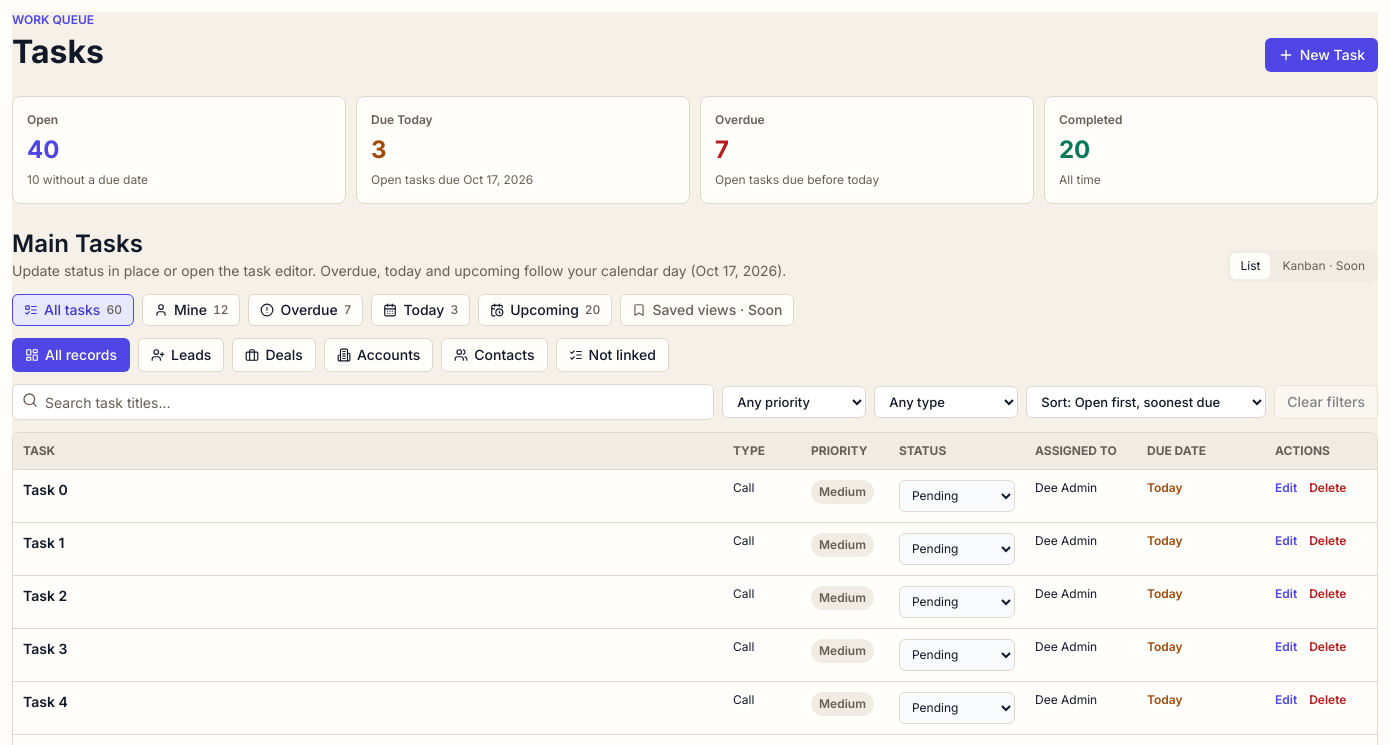
Tasks — one server page, server counts › a status change says "Saved" only after the server confirms, then reloads
Select "Completed" in the dropdown named "Status of Task 0" at (957, 496), box left=899, top=480, right=1015, bottom=512
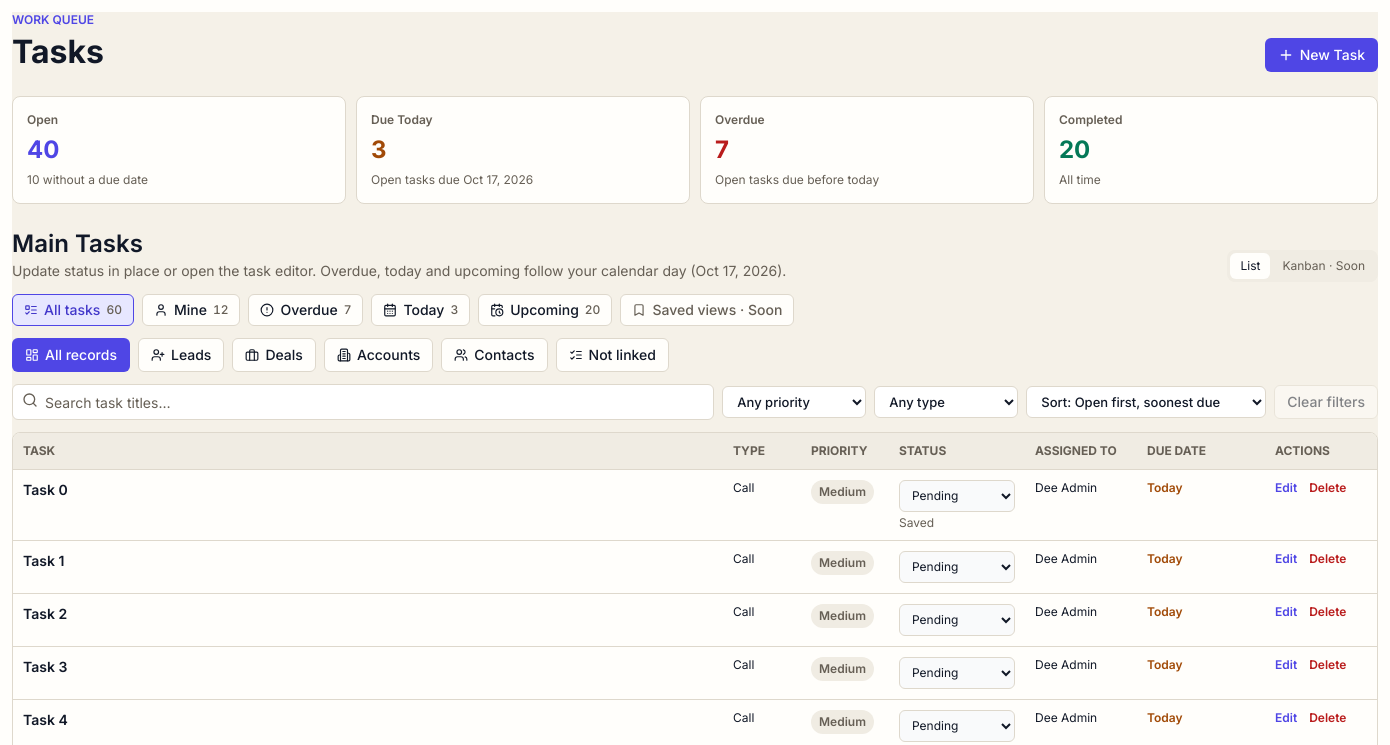
expect the text "Saved" is shown: met, box left=899, top=514, right=934, bottom=530
